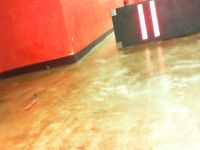switch: (149, 1, 161, 37), (137, 3, 148, 40)
